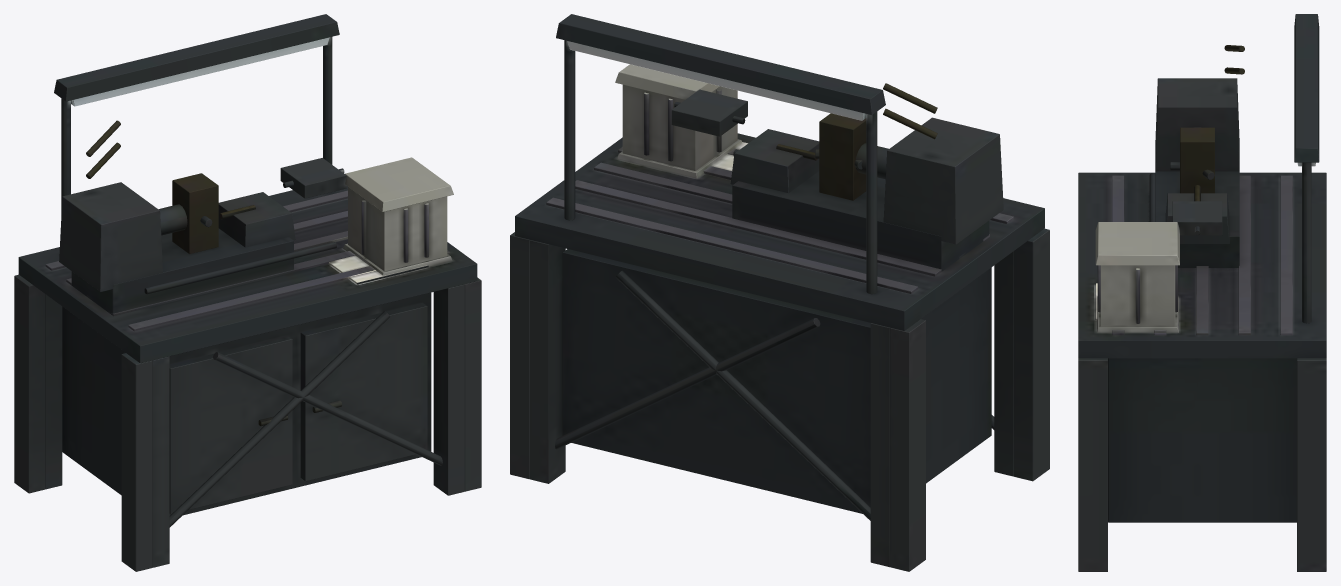
The model's file is DD_workbench3_L37.glb.
3 renders of one model, left to right at view 1: azimuth 30°, elevation 25°; view 2: azimuth 150°, elevation 25°; view 3: azimuth 270°, elevation 25°, orthographic. The views are drawn at different scales.
Visible parts, largest first — view 1: DD_workbench3_L37; view 2: DD_workbench3_L37; view 3: DD_workbench3_L37.
Boxes of the visible parts, x1,y1,x2,y2 form: DD_workbench3_L37: (14,14,481,571); DD_workbench3_L37: (510,14,1049,571); DD_workbench3_L37: (1078,14,1326,571).
Bounding box in the file's own units: 1.64 × 1.8 × 1.
Materials: 1 (1 with a texture image).
